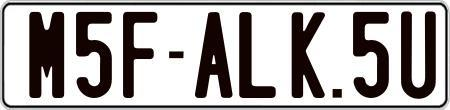5: (76, 12, 116, 103), (353, 12, 390, 99)
A: (192, 11, 230, 99)
F: (121, 9, 161, 100)
K: (291, 12, 324, 103)
L: (237, 11, 275, 102)
M: (28, 9, 67, 96)
U: (400, 10, 431, 103)
